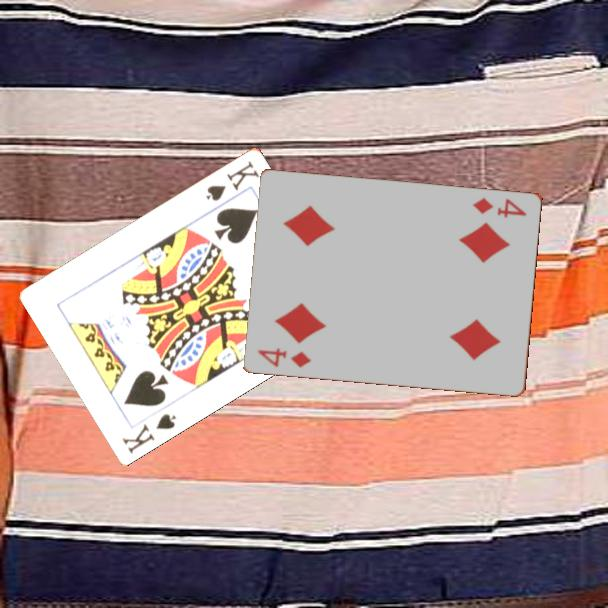d04: (469, 194, 530, 220), (255, 344, 314, 370)
s13: (203, 157, 262, 204), (119, 410, 179, 456)
